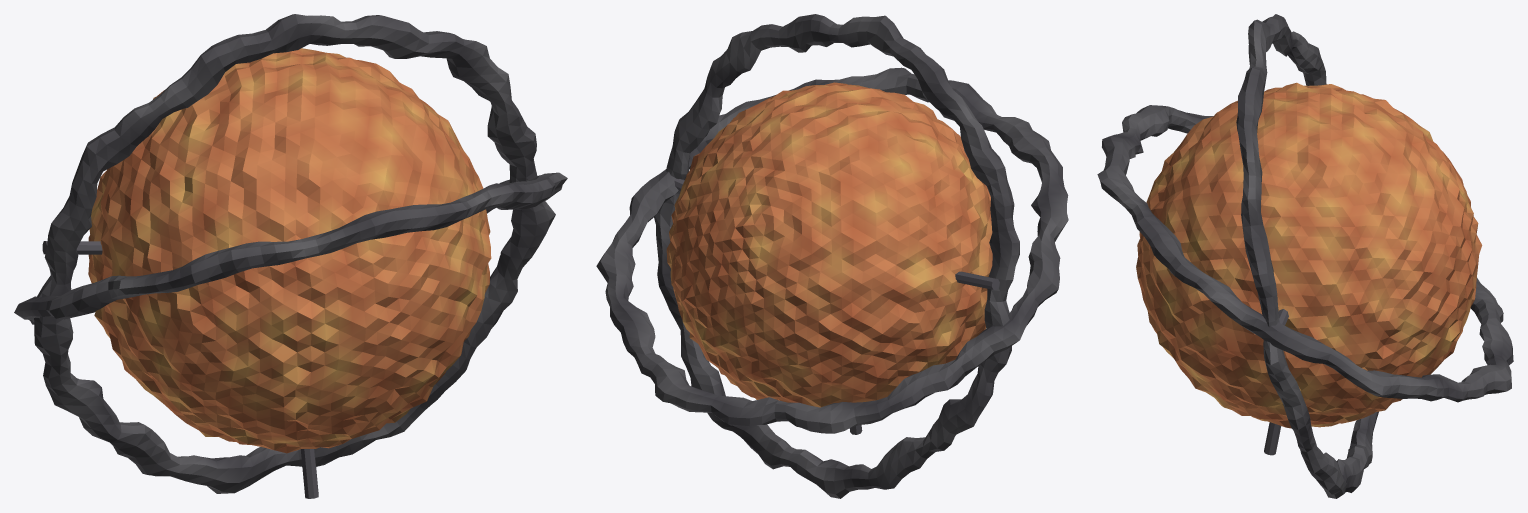
Rendered from esfera_dyson_recreacion.glb.
The picture shows the model from 3 angles, left to right: view 1: azimuth 30°, elevation 25°; view 2: azimuth 150°, elevation 25°; view 3: azimuth 270°, elevation 25°; orthographic projection. The views are drawn at different scales.
Parts seen in each view (by area): view 1: Núcleo solar, Primer aro artesanal, Segundo aro artesanal, Sujeción 3; view 2: Núcleo solar, Primer aro artesanal, Segundo aro artesanal, Sujeción 2; view 3: Núcleo solar, Segundo aro artesanal, Primer aro artesanal.
Boxes of the visible parts, <box> form: Núcleo solar: <box>88,48,491,453</box>; Primer aro artesanal: <box>34,14,555,493</box>; Segundo aro artesanal: <box>14,172,567,324</box>; Sujeción 3: <box>300,449,318,498</box>; Núcleo solar: <box>666,82,992,407</box>; Primer aro artesanal: <box>654,14,1019,498</box>; Segundo aro artesanal: <box>596,67,1068,433</box>; Sujeción 2: <box>955,271,999,290</box>; Núcleo solar: <box>1136,82,1482,428</box>; Segundo aro artesanal: <box>1097,105,1513,402</box>; Primer aro artesanal: <box>1236,14,1378,498</box>.
Bounding box in the file's own units: 4.62 × 4.66 × 3.93.
